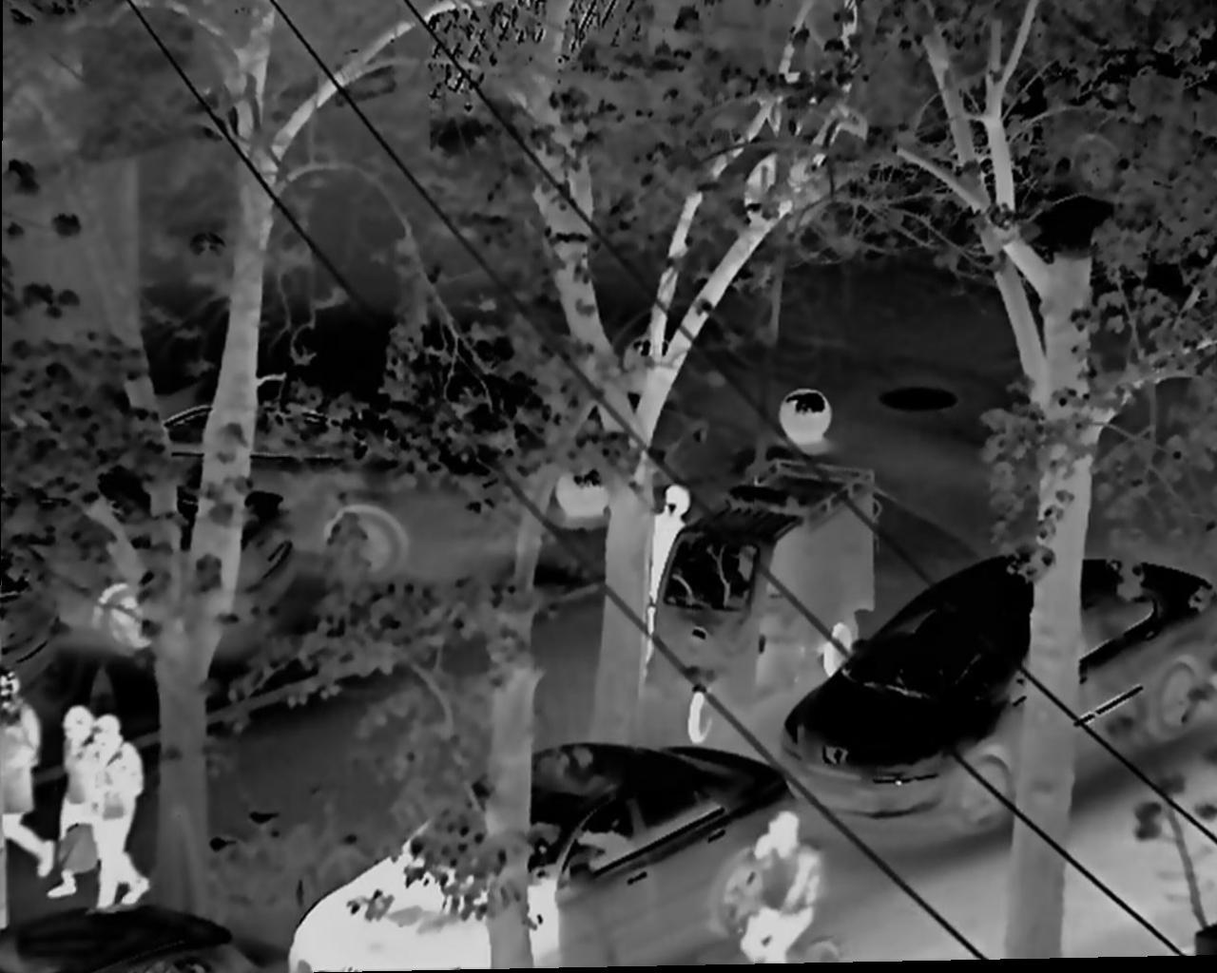person: (725, 803, 825, 957), (99, 712, 162, 907), (52, 710, 107, 912), (651, 481, 691, 598)
